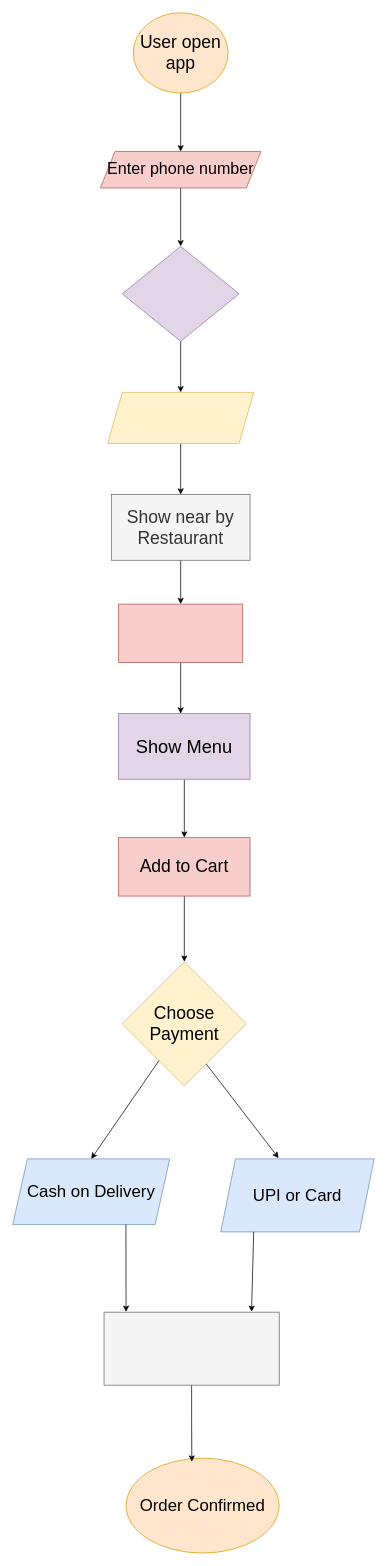
This 387x1566 diagram has some shape labels left out. The centre of each missing label's shape, as x and y in pixels:
Enter Address: [180,417]
Place Order: [191,1348]
Select Restaurant: [180,632]
Verify OTP: [180,293]
